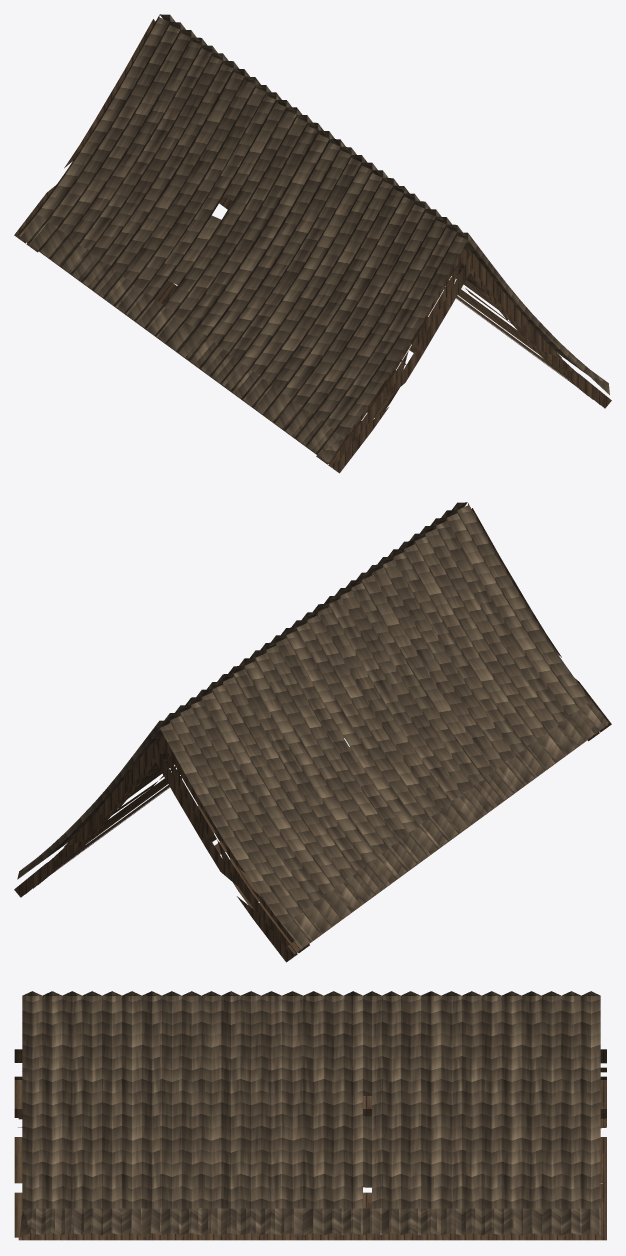
Rendered from Roof_Shingle_6x14.gltf.
3 renders of one model, top to bottom at view 1: azimuth 30°, elevation 25°; view 2: azimuth 150°, elevation 25°; view 3: azimuth 270°, elevation 25°, orthographic. The views are drawn at different scales.
Visible parts, largest first — view 1: Roof_Shingle_6x14; view 2: Roof_Shingle_6x14; view 3: Roof_Shingle_6x14.
Part boxes in pixels (bbox=[...]): Roof_Shingle_6x14: bbox=[14, 14, 611, 473]; Roof_Shingle_6x14: bbox=[14, 502, 611, 962]; Roof_Shingle_6x14: bbox=[14, 991, 606, 1240].
Size of the model in its own units: 8.25 by 5.42 by 15.66.
Materials: 2 (2 with a texture image).
